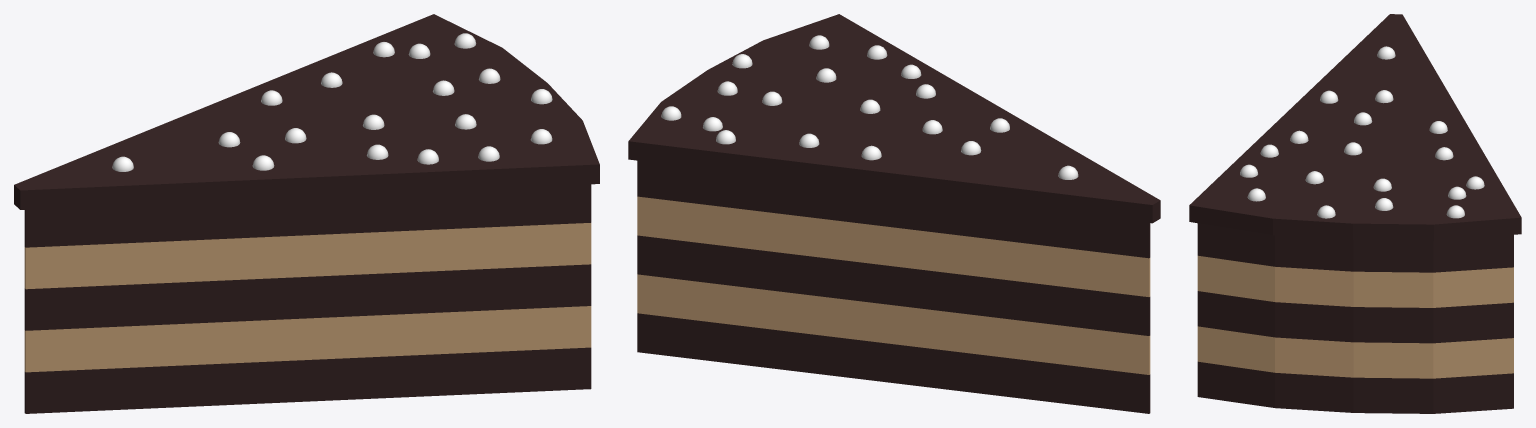
File: cake.glb
The picture shows the model from 3 angles, left to right: view 1: azimuth 30°, elevation 25°; view 2: azimuth 150°, elevation 25°; view 3: azimuth 270°, elevation 25°; orthographic projection. The views are drawn at different scales.
Visible parts, largest first — view 1: Box001; view 2: Box001; view 3: Box001.
Part boxes in pixels (<box>): Box001: <box>14,14,599,413</box>; Box001: <box>628,14,1160,413</box>; Box001: <box>1189,14,1521,413</box>.
Size of the model in its own units: 517822 by 231241 by 345419.
